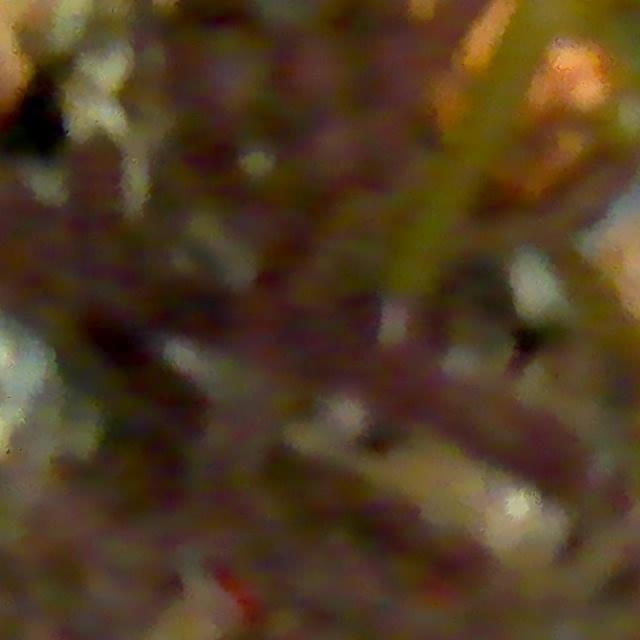SeaGrape: (260, 603, 304, 640)
